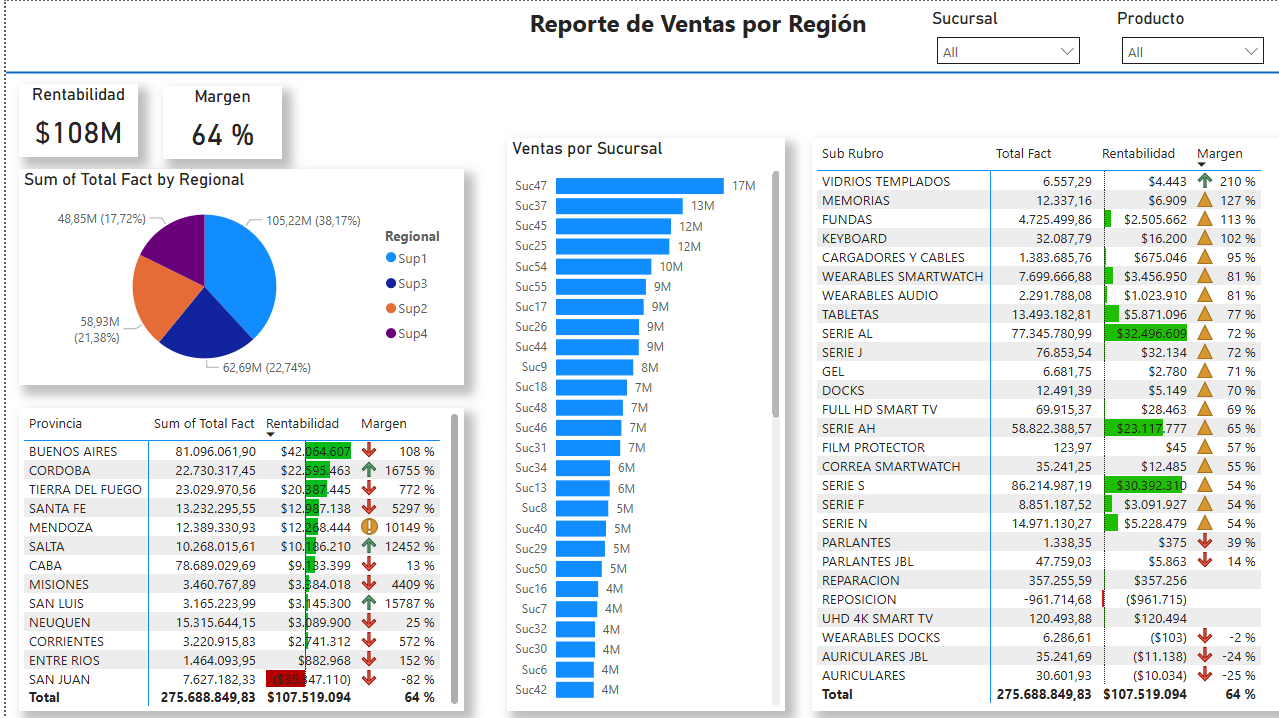

Layout of this report page (visuals, bound fields, positions):
{"tool":"powerbi","page":{"name":"Ventas Región","canvas":[1280,720],"ordinal":1},"visuals":[{"type":"group","id":"g1","title":"Group 3","box":[12.6,82.7,262.6,74.9],"z":0},{"type":"textbox","box":[516.5,0,351.1,66.1],"z":1000},{"type":"pieChart","fields":{"Category":["Estructura.Regional"],"Y":["Sum(Base Ventas.Total Fact)"]},"box":[12.6,168.3,445.5,215.9],"z":2000},{"type":"card","title":"Rentabilidad ","fields":{"Values":["Medidas.Rentabilidad Bruta"]},"box":[12.6,82.7,118.9,72.8],"z":3000,"group":"g1"},{"type":"pivotTable","fields":{"Rows":["Estructura.Provincia"],"Values":["Sum(Base Ventas.Total Fact)","Medidas.Rentabilidad","Medidas.Margen"]},"box":[12.6,406.6,445.5,303.5],"z":3000},{"type":"card","title":"Margen","fields":{"Values":["Medidas.Rentabilidad Bruta %"]},"box":[156.4,84.8,118.9,72.8],"z":4000,"group":"g1"},{"type":"clusteredBarChart","title":"Ventas por Sucursal","fields":{"Category":["Estructura.Sucursal"],"Y":["Sum(Base Ventas.Total Fact)"]},"box":[500.9,137.1,278.2,572.9],"z":4000},{"type":"pivotTable","fields":{"Rows":["Base Ventas.Sub Rubro"],"Values":["Sum(Base Ventas.Total Fact)","Medidas.Rentabilidad","Medidas.Margen"]},"box":[806.3,137.1,473.7,572.9],"z":5000},{"type":"slicer","title":"Producto","fields":{"Values":["Base Ventas.Sub Rubro"]},"box":[1105.9,6.8,162.4,65.2],"z":6000},{"type":"slicer","title":"Sucursal","fields":{"Values":["Estructura.Sucursal"]},"box":[921.1,6.8,162.4,66.1],"z":7000},{"type":"shape","box":[0,54.5,1280,35],"z":7001}]}

Visuals, with their boxes in screenshot pixels (x1, y1, x2, y2), scaled from the page's 1280x720 canvas onto the 1279x718 screenshot:
"Group 3" group: detection(13, 82, 275, 157)
textbox: detection(516, 0, 867, 66)
pieChart - Estructura.Regional x Sum(Base Ventas.Total Fact): detection(13, 168, 458, 383)
"Rentabilidad " card: detection(13, 82, 131, 155)
pivotTable - Estructura.Provincia x Sum(Base Ventas.Total Fact): detection(13, 405, 458, 708)
"Margen" card: detection(156, 85, 275, 157)
"Ventas por Sucursal" clusteredBarChart: detection(501, 137, 778, 708)
pivotTable - Base Ventas.Sub Rubro x Sum(Base Ventas.Total Fact): detection(806, 137, 1278, 708)
"Producto" slicer: detection(1105, 7, 1267, 72)
"Sucursal" slicer: detection(920, 7, 1083, 73)
shape: detection(0, 54, 1278, 89)
